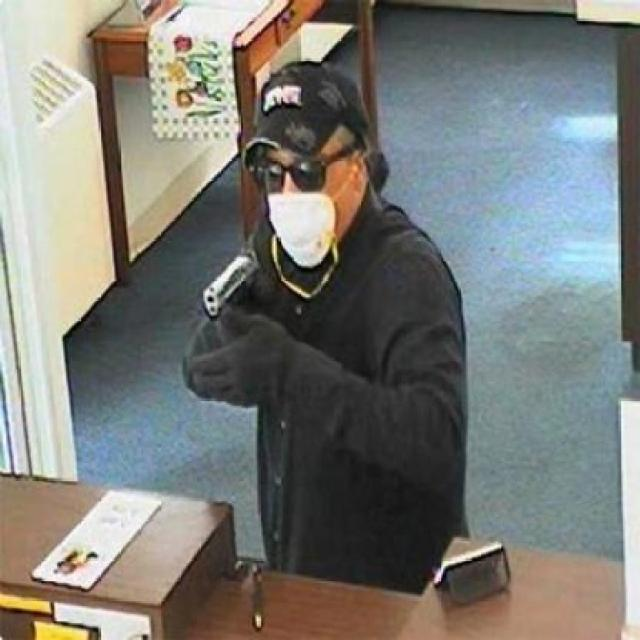Gun: (194, 250, 286, 372)
